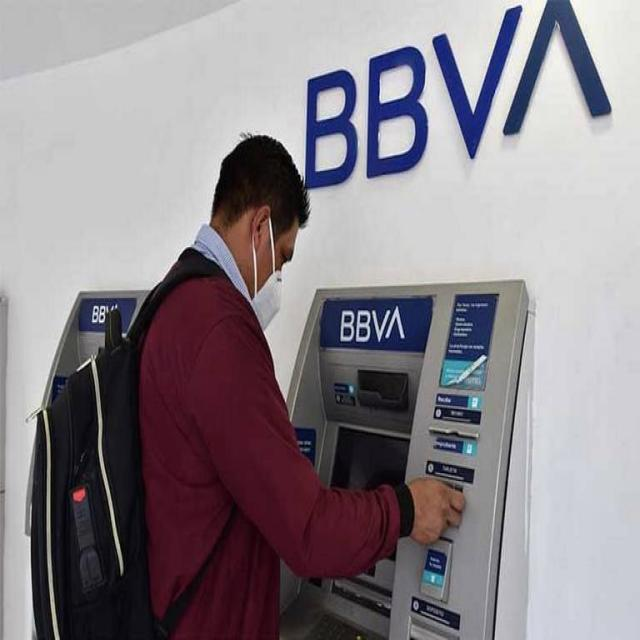BBVA: (306, 0, 608, 188), (340, 308, 406, 342)
